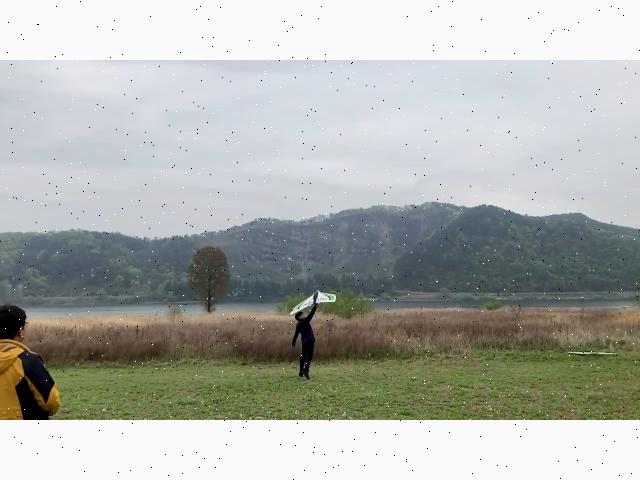Anti-Drone: (286, 284, 346, 318)
